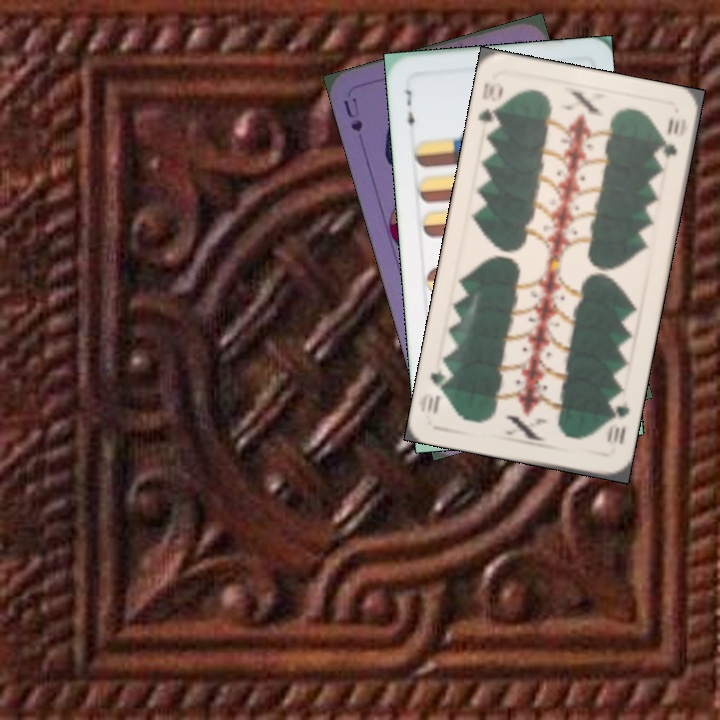E7: (401, 86, 417, 136)
G10: (474, 78, 506, 135), (602, 393, 632, 447)
SU: (339, 93, 366, 135)
